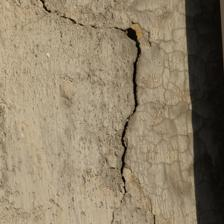Crack: (92, 0, 134, 104), (85, 69, 110, 194)
